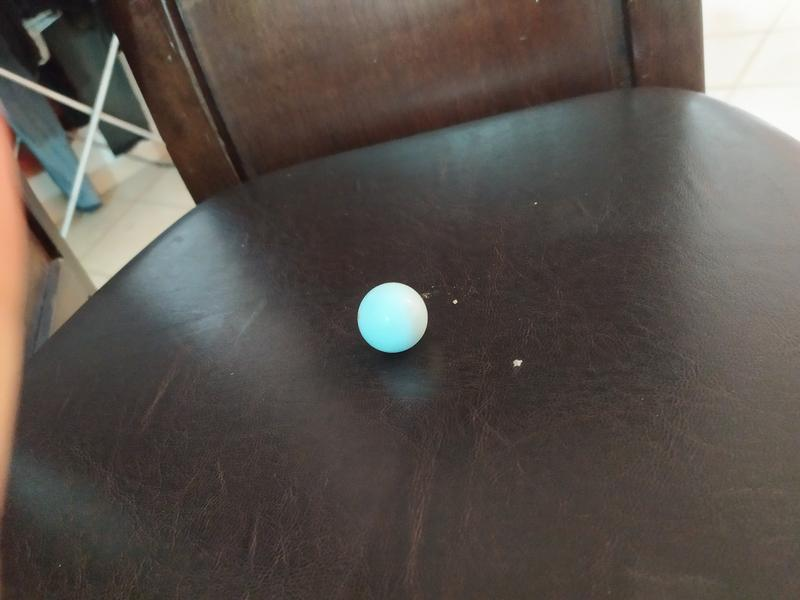Warning: (354, 280, 431, 355)
